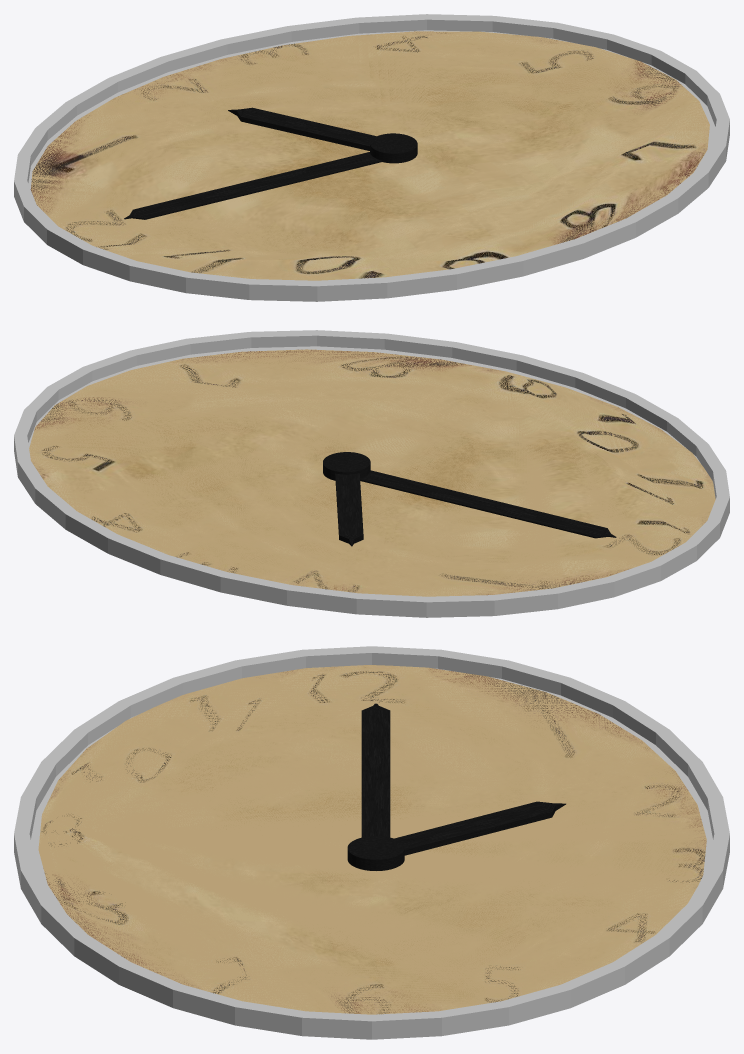
The model's file is Clock.fbx.
3 views of the same model, one above another, from view 1: azimuth 30°, elevation 25°; view 2: azimuth 150°, elevation 25°; view 3: azimuth 270°, elevation 25° (orthographic). The views are drawn at different scales.
Visible parts, largest first — view 1: Cylinder, Cylinder.001, Cube, Cube.001, Cylinder.002; view 2: Cylinder, Cylinder.001, Cube, Cube.001, Cylinder.002; view 3: Cylinder, Cylinder.001, Cube, Cube.001, Cylinder.002.
Boxes of the visible parts, x1,y1,x2,y2 form: Cylinder: (30, 31, 709, 280); Cylinder.001: (14, 14, 729, 301); Cube: (124, 152, 382, 219); Cube.001: (228, 107, 376, 150); Cylinder.002: (370, 133, 417, 163); Cylinder: (29, 349, 715, 596); Cylinder.001: (14, 330, 729, 617); Cube: (360, 470, 616, 538); Cube.001: (335, 473, 363, 546); Cylinder.002: (323, 452, 370, 480); Cylinder: (38, 665, 706, 1014); Cylinder.001: (14, 646, 729, 1039); Cube: (361, 703, 390, 837); Cube.001: (394, 801, 565, 855); Cylinder.002: (347, 836, 404, 870).
Size of the model in its own units: 142 by 3.25 by 114.
